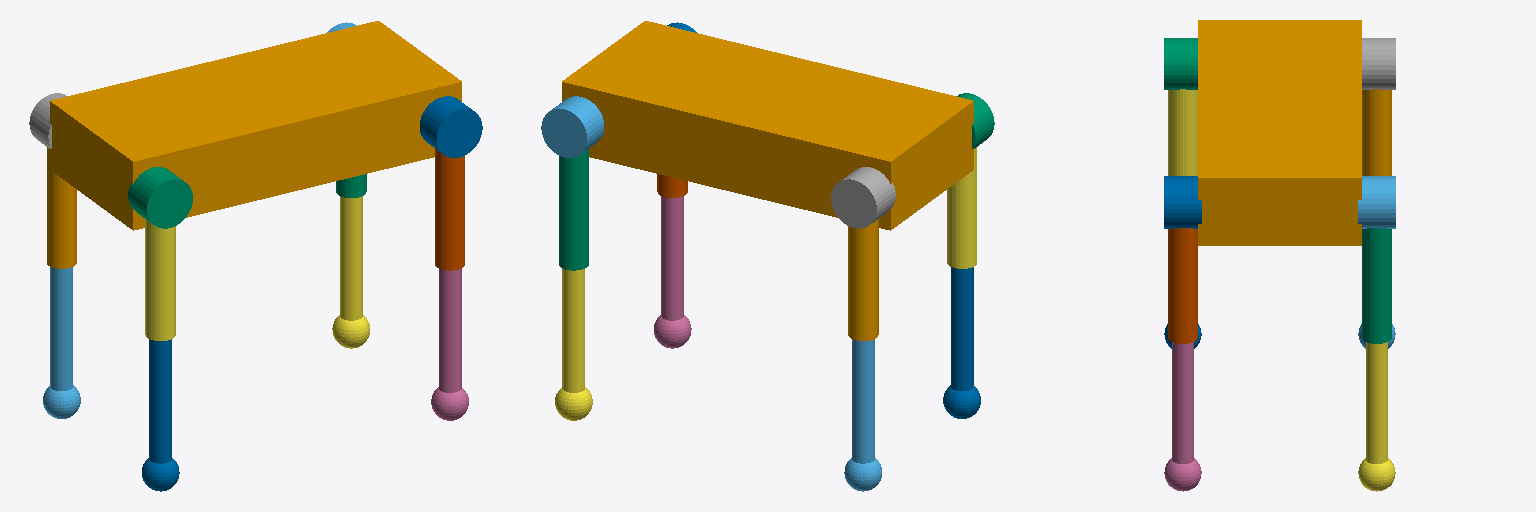
The robot description file, URDF, robot "quadruped":
<?xml version="1.0"?>
<!-- A small four-legged robot of 9 kg body and three driven joints a leg, all primitives: legs branch,
     so its base stays free. Sizes are illustrative, not a real product. -->
<robot name="quadruped">
  <link name="base_link">
    <inertial><mass value="9"/><inertia ixx="0.06" iyy="0.2" izz="0.24" ixy="0" ixz="0" iyz="0"/></inertial>
    <visual><geometry><box size="0.5 0.22 0.1"/></geometry></visual>
    <collision><geometry><box size="0.5 0.22 0.1"/></geometry></collision>
  </link>
  <link name="front_left_hip">
    <inertial><mass value="0.5"/><inertia ixx="0.001" iyy="0.001" izz="0.001" ixy="0" ixz="0" iyz="0"/></inertial>
    <visual><origin rpy="1.5708 0 0"/><geometry><cylinder radius="0.035" length="0.05"/></geometry></visual>
  </link>
  <joint name="front_left_hip_joint" type="revolute">
    <parent link="base_link"/><child link="front_left_hip"/>
    <origin xyz="0.22 0.13 0"/><axis xyz="1 0 0"/>
    <limit lower="-0.6" upper="0.6" effort="40" velocity="20"/>
    <dynamics damping="0.05"/>
  </joint>
  <link name="front_left_thigh">
    <inertial><origin xyz="0 0 -0.1"/><mass value="0.8"/><inertia ixx="0.003" iyy="0.003" izz="0.0005" ixy="0" ixz="0" iyz="0"/></inertial>
    <visual><origin xyz="0 0 -0.1"/><geometry><cylinder radius="0.02" length="0.2"/></geometry></visual>
  </link>
  <joint name="front_left_thigh_joint" type="revolute">
    <parent link="front_left_hip"/><child link="front_left_thigh"/>
    <axis xyz="0 1 0"/>
    <limit lower="-1.6" upper="1.6" effort="40" velocity="20"/>
    <dynamics damping="0.05"/>
  </joint>
  <link name="front_left_shin">
    <inertial><origin xyz="0 0 -0.1"/><mass value="0.3"/><inertia ixx="0.001" iyy="0.001" izz="0.0002" ixy="0" ixz="0" iyz="0"/></inertial>
    <visual><origin xyz="0 0 -0.1"/><geometry><cylinder radius="0.015" length="0.2"/></geometry></visual>
    <visual><origin xyz="0 0 -0.2"/><geometry><sphere radius="0.025"/></geometry></visual>
    <collision><origin xyz="0 0 -0.2"/><geometry><sphere radius="0.025"/></geometry></collision>
  </link>
  <joint name="front_left_knee_joint" type="revolute">
    <parent link="front_left_thigh"/><child link="front_left_shin"/>
    <origin xyz="0 0 -0.2"/><axis xyz="0 1 0"/>
    <limit lower="-2.6" upper="0" effort="40" velocity="20"/>
    <dynamics damping="0.05"/>
  </joint>
  <link name="front_right_hip">
    <inertial><mass value="0.5"/><inertia ixx="0.001" iyy="0.001" izz="0.001" ixy="0" ixz="0" iyz="0"/></inertial>
    <visual><origin rpy="1.5708 0 0"/><geometry><cylinder radius="0.035" length="0.05"/></geometry></visual>
  </link>
  <joint name="front_right_hip_joint" type="revolute">
    <parent link="base_link"/><child link="front_right_hip"/>
    <origin xyz="0.22 -0.13 0"/><axis xyz="1 0 0"/>
    <limit lower="-0.6" upper="0.6" effort="40" velocity="20"/>
    <dynamics damping="0.05"/>
  </joint>
  <link name="front_right_thigh">
    <inertial><origin xyz="0 0 -0.1"/><mass value="0.8"/><inertia ixx="0.003" iyy="0.003" izz="0.0005" ixy="0" ixz="0" iyz="0"/></inertial>
    <visual><origin xyz="0 0 -0.1"/><geometry><cylinder radius="0.02" length="0.2"/></geometry></visual>
  </link>
  <joint name="front_right_thigh_joint" type="revolute">
    <parent link="front_right_hip"/><child link="front_right_thigh"/>
    <axis xyz="0 1 0"/>
    <limit lower="-1.6" upper="1.6" effort="40" velocity="20"/>
    <dynamics damping="0.05"/>
  </joint>
  <link name="front_right_shin">
    <inertial><origin xyz="0 0 -0.1"/><mass value="0.3"/><inertia ixx="0.001" iyy="0.001" izz="0.0002" ixy="0" ixz="0" iyz="0"/></inertial>
    <visual><origin xyz="0 0 -0.1"/><geometry><cylinder radius="0.015" length="0.2"/></geometry></visual>
    <visual><origin xyz="0 0 -0.2"/><geometry><sphere radius="0.025"/></geometry></visual>
    <collision><origin xyz="0 0 -0.2"/><geometry><sphere radius="0.025"/></geometry></collision>
  </link>
  <joint name="front_right_knee_joint" type="revolute">
    <parent link="front_right_thigh"/><child link="front_right_shin"/>
    <origin xyz="0 0 -0.2"/><axis xyz="0 1 0"/>
    <limit lower="-2.6" upper="0" effort="40" velocity="20"/>
    <dynamics damping="0.05"/>
  </joint>
  <link name="rear_left_hip">
    <inertial><mass value="0.5"/><inertia ixx="0.001" iyy="0.001" izz="0.001" ixy="0" ixz="0" iyz="0"/></inertial>
    <visual><origin rpy="1.5708 0 0"/><geometry><cylinder radius="0.035" length="0.05"/></geometry></visual>
  </link>
  <joint name="rear_left_hip_joint" type="revolute">
    <parent link="base_link"/><child link="rear_left_hip"/>
    <origin xyz="-0.22 0.13 0"/><axis xyz="1 0 0"/>
    <limit lower="-0.6" upper="0.6" effort="40" velocity="20"/>
    <dynamics damping="0.05"/>
  </joint>
  <link name="rear_left_thigh">
    <inertial><origin xyz="0 0 -0.1"/><mass value="0.8"/><inertia ixx="0.003" iyy="0.003" izz="0.0005" ixy="0" ixz="0" iyz="0"/></inertial>
    <visual><origin xyz="0 0 -0.1"/><geometry><cylinder radius="0.02" length="0.2"/></geometry></visual>
  </link>
  <joint name="rear_left_thigh_joint" type="revolute">
    <parent link="rear_left_hip"/><child link="rear_left_thigh"/>
    <axis xyz="0 1 0"/>
    <limit lower="-1.6" upper="1.6" effort="40" velocity="20"/>
    <dynamics damping="0.05"/>
  </joint>
  <link name="rear_left_shin">
    <inertial><origin xyz="0 0 -0.1"/><mass value="0.3"/><inertia ixx="0.001" iyy="0.001" izz="0.0002" ixy="0" ixz="0" iyz="0"/></inertial>
    <visual><origin xyz="0 0 -0.1"/><geometry><cylinder radius="0.015" length="0.2"/></geometry></visual>
    <visual><origin xyz="0 0 -0.2"/><geometry><sphere radius="0.025"/></geometry></visual>
    <collision><origin xyz="0 0 -0.2"/><geometry><sphere radius="0.025"/></geometry></collision>
  </link>
  <joint name="rear_left_knee_joint" type="revolute">
    <parent link="rear_left_thigh"/><child link="rear_left_shin"/>
    <origin xyz="0 0 -0.2"/><axis xyz="0 1 0"/>
    <limit lower="-2.6" upper="0" effort="40" velocity="20"/>
    <dynamics damping="0.05"/>
  </joint>
  <link name="rear_right_hip">
    <inertial><mass value="0.5"/><inertia ixx="0.001" iyy="0.001" izz="0.001" ixy="0" ixz="0" iyz="0"/></inertial>
    <visual><origin rpy="1.5708 0 0"/><geometry><cylinder radius="0.035" length="0.05"/></geometry></visual>
  </link>
  <joint name="rear_right_hip_joint" type="revolute">
    <parent link="base_link"/><child link="rear_right_hip"/>
    <origin xyz="-0.22 -0.13 0"/><axis xyz="1 0 0"/>
    <limit lower="-0.6" upper="0.6" effort="40" velocity="20"/>
    <dynamics damping="0.05"/>
  </joint>
  <link name="rear_right_thigh">
    <inertial><origin xyz="0 0 -0.1"/><mass value="0.8"/><inertia ixx="0.003" iyy="0.003" izz="0.0005" ixy="0" ixz="0" iyz="0"/></inertial>
    <visual><origin xyz="0 0 -0.1"/><geometry><cylinder radius="0.02" length="0.2"/></geometry></visual>
  </link>
  <joint name="rear_right_thigh_joint" type="revolute">
    <parent link="rear_right_hip"/><child link="rear_right_thigh"/>
    <axis xyz="0 1 0"/>
    <limit lower="-1.6" upper="1.6" effort="40" velocity="20"/>
    <dynamics damping="0.05"/>
  </joint>
  <link name="rear_right_shin">
    <inertial><origin xyz="0 0 -0.1"/><mass value="0.3"/><inertia ixx="0.001" iyy="0.001" izz="0.0002" ixy="0" ixz="0" iyz="0"/></inertial>
    <visual><origin xyz="0 0 -0.1"/><geometry><cylinder radius="0.015" length="0.2"/></geometry></visual>
    <visual><origin xyz="0 0 -0.2"/><geometry><sphere radius="0.025"/></geometry></visual>
    <collision><origin xyz="0 0 -0.2"/><geometry><sphere radius="0.025"/></geometry></collision>
  </link>
  <joint name="rear_right_knee_joint" type="revolute">
    <parent link="rear_right_thigh"/><child link="rear_right_shin"/>
    <origin xyz="0 0 -0.2"/><axis xyz="0 1 0"/>
    <limit lower="-2.6" upper="0" effort="40" velocity="20"/>
    <dynamics damping="0.05"/>
  </joint>
</robot>

--- Facts derived from the render (not from the file) ---
Views: 3 orthographic renders of the robot side by side, from view 1: azimuth 30°, elevation 25°; view 2: azimuth 150°, elevation 25°; view 3: azimuth 270°, elevation 25°.
Robot: quadruped — 13 links, 12 joints (12 revolute); root link base_link; default pose: every joint at zero.
Links seen in each view (by area): view 1: base_link, rear_left_shin, front_right_shin, front_left_shin, rear_right_shin, rear_right_thigh, front_right_thigh, rear_right_hip, front_right_hip, rear_left_thigh, rear_left_hip, front_left_thigh; view 2: base_link, rear_right_shin, front_left_shin, front_right_shin, rear_left_shin, rear_left_thigh, front_left_thigh, rear_left_hip, front_left_hip, rear_right_thigh, rear_right_hip, front_right_thigh; view 3: base_link, front_left_shin, front_right_shin, front_left_thigh, front_right_thigh, rear_left_thigh, rear_right_thigh, front_left_hip, front_right_hip, rear_left_hip, rear_right_hip.
Link boxes in pixels (x1,y1,x2,y2): base_link: (50, 21, 461, 230); rear_left_shin: (43, 267, 80, 418); front_right_shin: (431, 268, 468, 420); front_left_shin: (332, 196, 369, 348); rear_right_shin: (142, 339, 179, 491); rear_right_thigh: (145, 219, 175, 340); front_right_thigh: (435, 149, 464, 270); rear_right_hip: (128, 167, 192, 228); front_right_hip: (420, 96, 482, 157); rear_left_thigh: (47, 147, 76, 268); rear_left_hip: (29, 93, 66, 148); front_left_thigh: (336, 174, 366, 197); base_link: (562, 21, 973, 230); rear_right_shin: (943, 267, 980, 418); front_left_shin: (555, 268, 592, 420); front_right_shin: (654, 196, 691, 348); rear_left_shin: (844, 339, 881, 491); rear_left_thigh: (848, 219, 878, 340); front_left_thigh: (559, 149, 588, 270); rear_left_hip: (831, 167, 895, 228); front_left_hip: (541, 96, 603, 157); rear_right_thigh: (947, 147, 976, 268); rear_right_hip: (957, 93, 994, 148); front_right_thigh: (657, 174, 687, 197); base_link: (1198, 20, 1361, 245); front_left_shin: (1358, 342, 1395, 491); front_right_shin: (1164, 342, 1201, 491); front_left_thigh: (1362, 228, 1391, 343); front_right_thigh: (1168, 228, 1197, 343); rear_left_thigh: (1362, 89, 1391, 175); rear_right_thigh: (1168, 89, 1197, 175); front_left_hip: (1358, 176, 1395, 228); front_right_hip: (1164, 176, 1201, 228); rear_left_hip: (1362, 38, 1395, 89); rear_right_hip: (1164, 38, 1197, 89).
Size in the robot's own frame: 0.51 by 0.31 by 0.475 metres.
Geometry: primitives only (box / cylinder / sphere), no mesh files.
